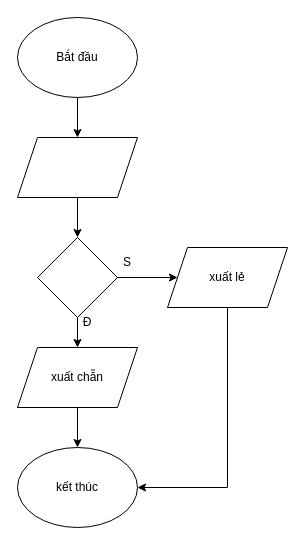
The diagram is 305 pixels wide and 545 high, and some of its shapes have lost their labels. The shapes that lost their labels are listed below. From the top down, each one's centre as x and y in pixels, then its label:
the point at 77,167: Nhập n
the point at 77,277: n chia hết cho 2 ?
